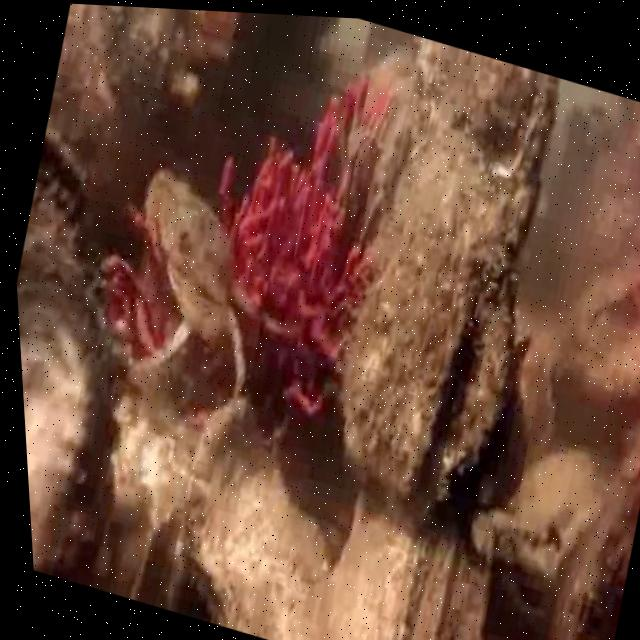Oyster-Closed: (341, 39, 554, 508)
Oyster-Indeterminate: (17, 204, 111, 585)
Oyster-Open: (34, 116, 89, 218)
